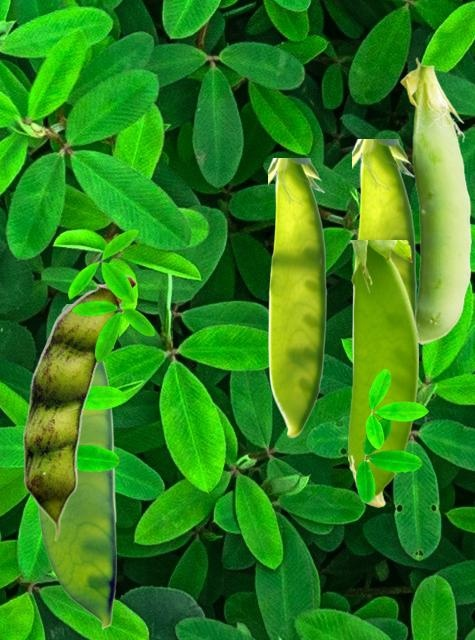pea: (23, 274, 136, 540), (37, 304, 115, 628), (400, 57, 470, 343), (348, 240, 417, 506), (268, 158, 326, 437), (352, 139, 416, 312)
